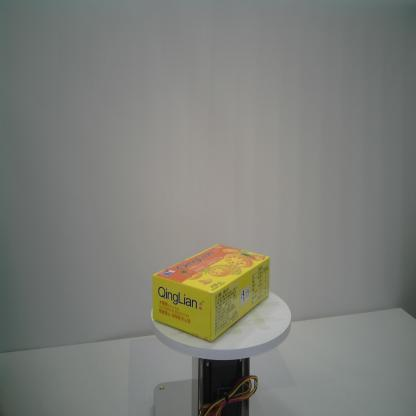Dessert: (151, 243, 271, 344)
